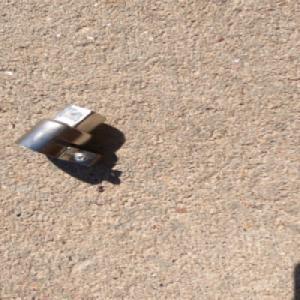MetalPart: (12, 103, 108, 167)
